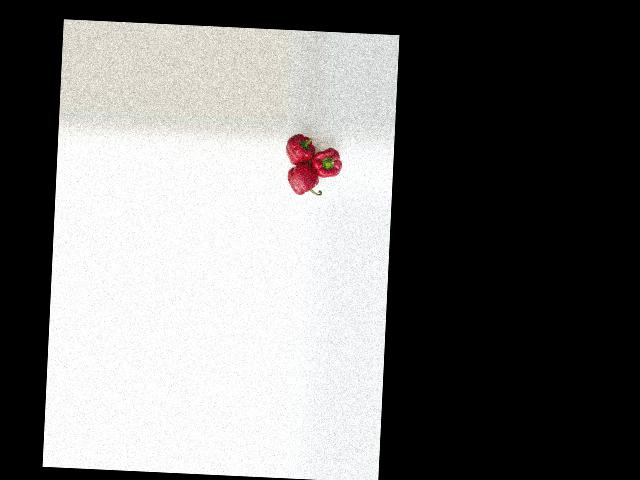bell_pepper: (284, 164, 324, 203)
